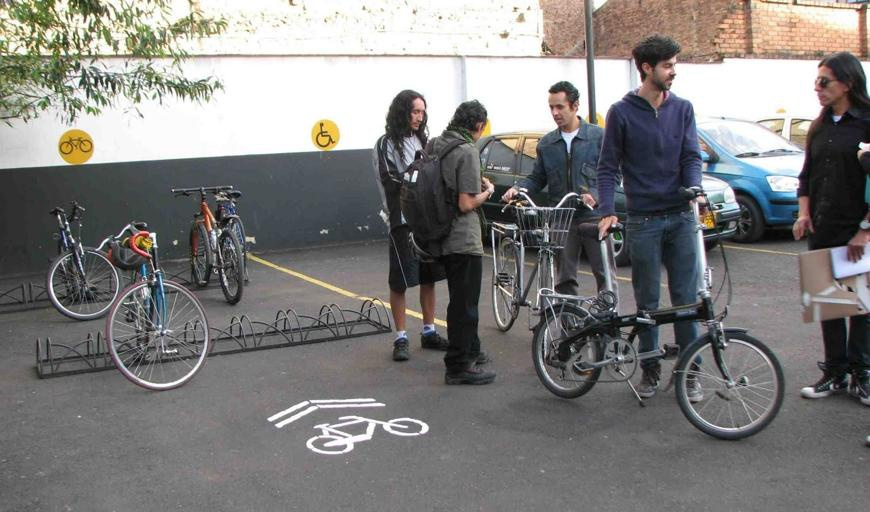non-vehicle: (524, 183, 786, 442), (485, 184, 601, 362), (101, 216, 211, 395), (43, 197, 125, 324), (166, 181, 245, 304), (213, 186, 250, 281)
